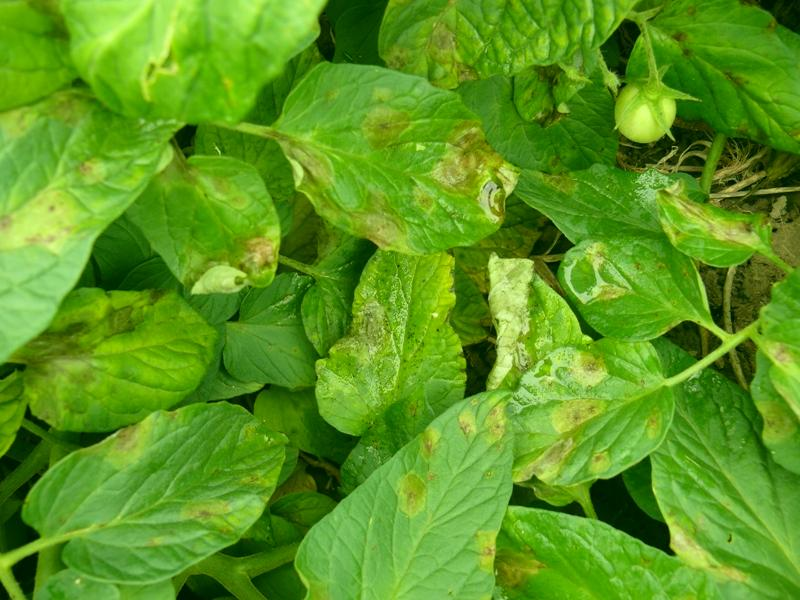Tomato Early blight leaf: (21, 391, 292, 573), (284, 64, 515, 245), (317, 244, 462, 469), (0, 296, 236, 434), (507, 337, 670, 486), (141, 129, 277, 300)
